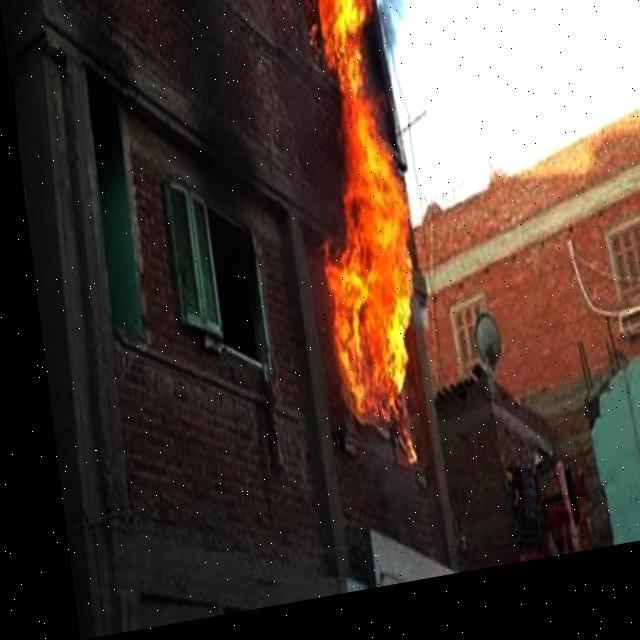Fire: (276, 0, 433, 452)
